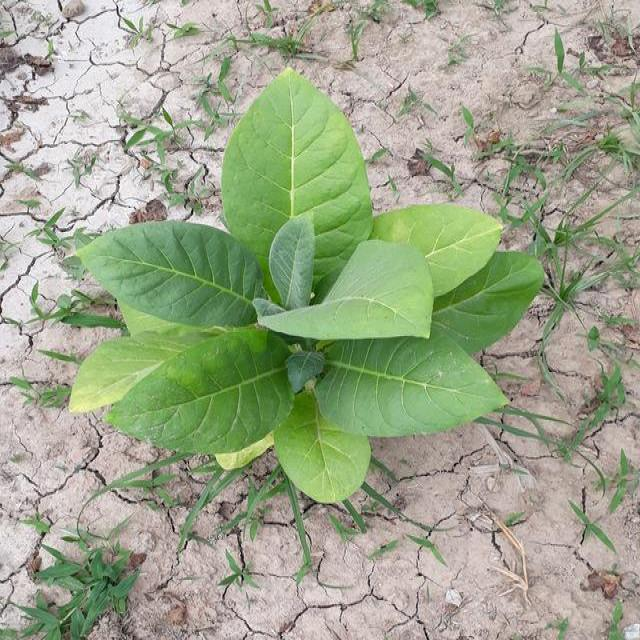crop: (73, 67, 546, 504)
